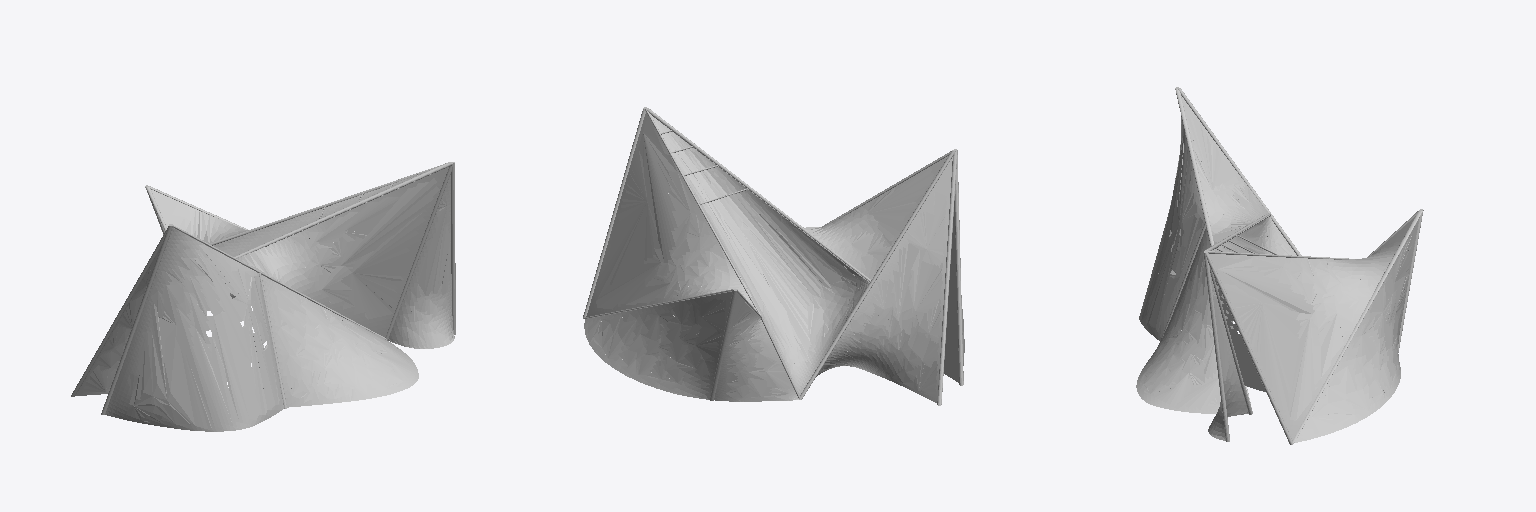
File: pp_dissolved.obj
The picture shows the model from 3 angles: view 1: azimuth 30°, elevation 25°; view 2: azimuth 150°, elevation 25°; view 3: azimuth 270°, elevation 25°; orthographic projection.
Visible parts, largest first — view 1: Philips_Pavilion-3DPC_m; view 2: Philips_Pavilion-3DPC_m; view 3: Philips_Pavilion-3DPC_m.
Part boxes in pixels (left/top/right/bottom): Philips_Pavilion-3DPC_m: left=71, top=162, right=455, bottom=431; Philips_Pavilion-3DPC_m: left=583, top=107, right=964, bottom=405; Philips_Pavilion-3DPC_m: left=1136, top=87, right=1423, bottom=444.
Size of the model in its own units: 37.56 by 20.31 by 26.06.